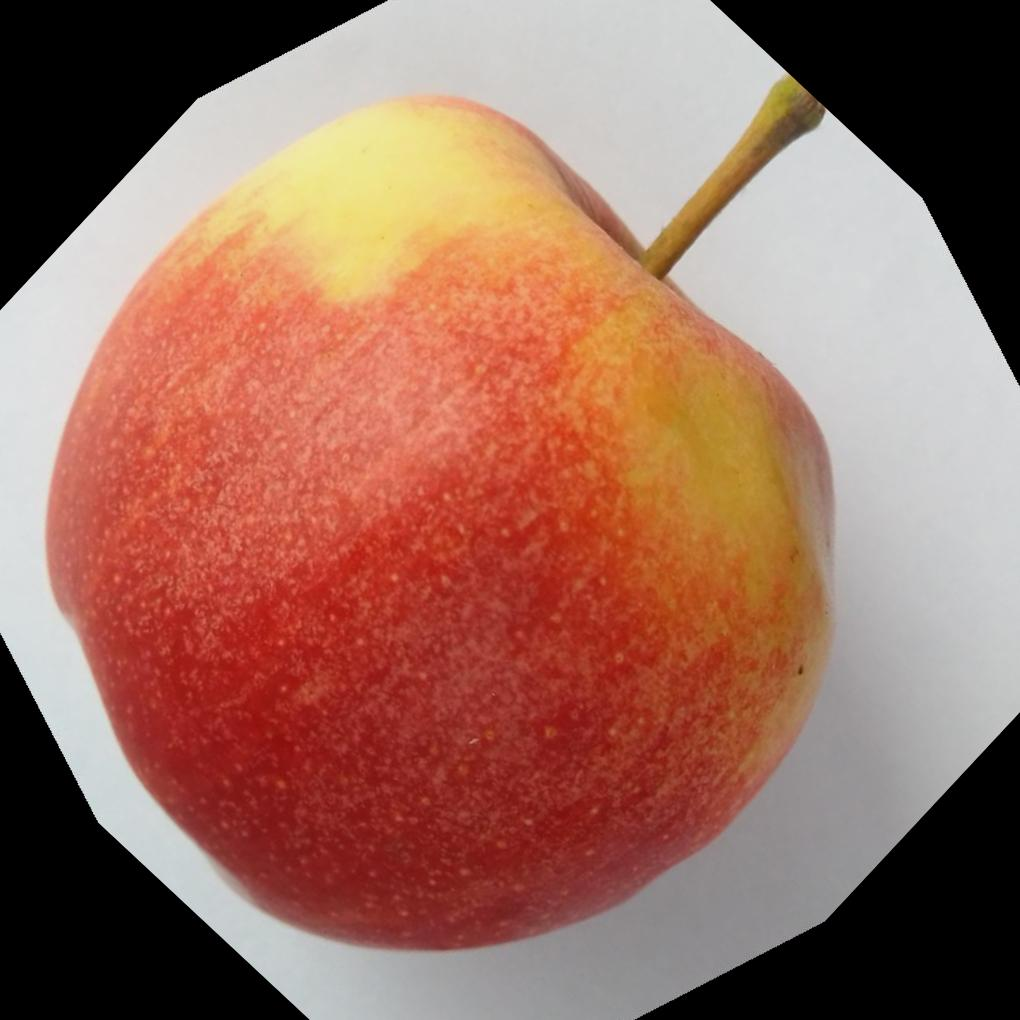FreshGuava: (43, 92, 839, 957)
